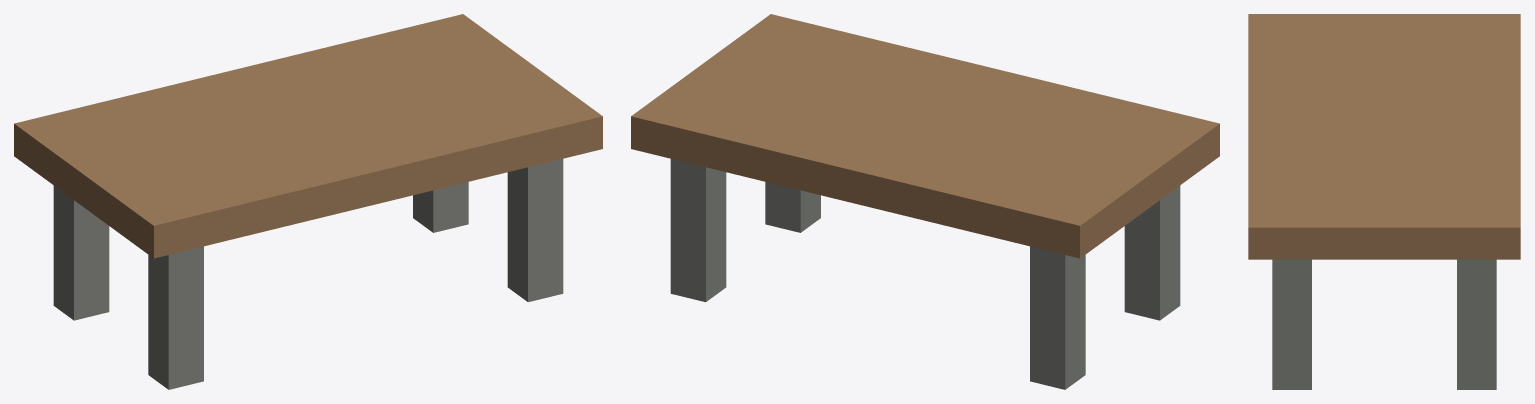
The model's file is table.glb.
The picture shows the model from 3 angles, left to right: view 1: azimuth 30°, elevation 25°; view 2: azimuth 150°, elevation 25°; view 3: azimuth 270°, elevation 25°; orthographic projection. The views are drawn at different scales.
Visible parts, largest first — view 1: top, leg-4, leg-3, leg-1, leg-2; view 2: top, leg-2, leg-1, leg-3, leg-4; view 3: top, leg-2, leg-4.
Boxes of the visible parts, bbox=[...] form: top: bbox=[14, 14, 602, 258]; leg-4: bbox=[507, 159, 563, 302]; leg-3: bbox=[148, 246, 203, 389]; leg-1: bbox=[53, 185, 109, 320]; leg-2: bbox=[413, 182, 468, 232]; top: bbox=[631, 14, 1219, 258]; leg-2: bbox=[670, 159, 726, 302]; leg-1: bbox=[1030, 246, 1085, 389]; leg-3: bbox=[1124, 185, 1180, 320]; leg-4: bbox=[765, 182, 820, 232]; top: bbox=[1248, 14, 1520, 259]; leg-2: bbox=[1457, 259, 1496, 389]; leg-4: bbox=[1272, 259, 1311, 389].
Size of the model in its own units: 1.15 by 0.44 by 0.62.
